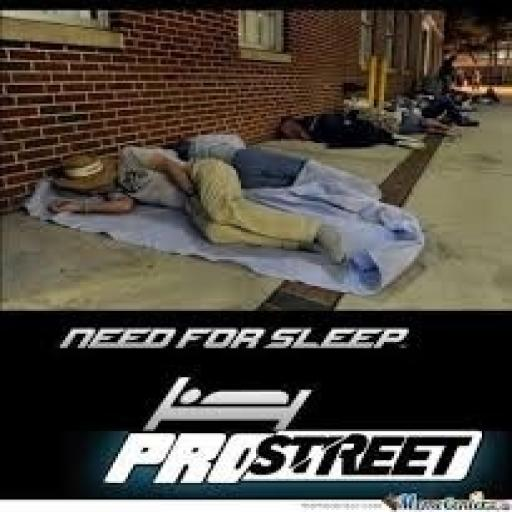sleeping: (45, 131, 422, 286)
